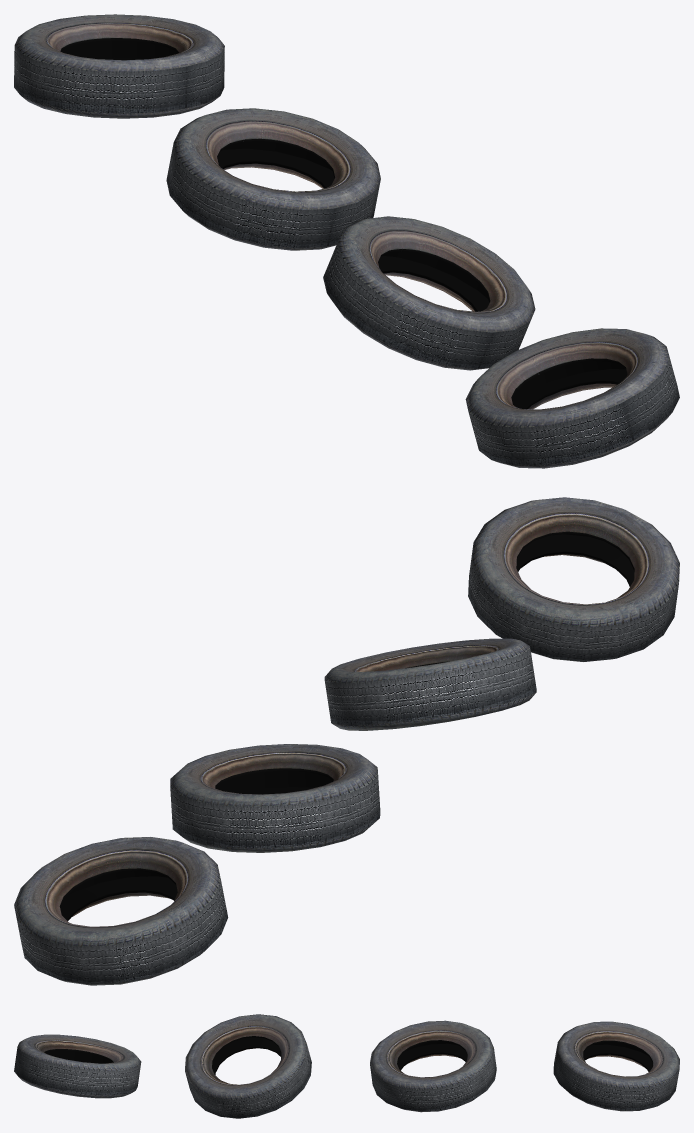
The model's file is Tire_Set1.fbx.
3 views of the same model, one above another, from view 1: azimuth 30°, elevation 25°; view 2: azimuth 150°, elevation 25°; view 3: azimuth 270°, elevation 25° (orthographic). The views are drawn at different scales.
Parts seen in each view (by area): view 1: Tire_Set1; view 2: Tire_Set1; view 3: Tire_Set1.
Part boxes in pixels (left/top/right/bottom): Tire_Set1: left=14, top=14, right=679, bottom=468; Tire_Set1: left=14, top=497, right=679, bottom=985; Tire_Set1: left=14, top=1014, right=679, bottom=1118.
Bounding box in the file's own units: 5.5 × 3.11 × 28.69.
Materials: 1 (1 with a texture image).
